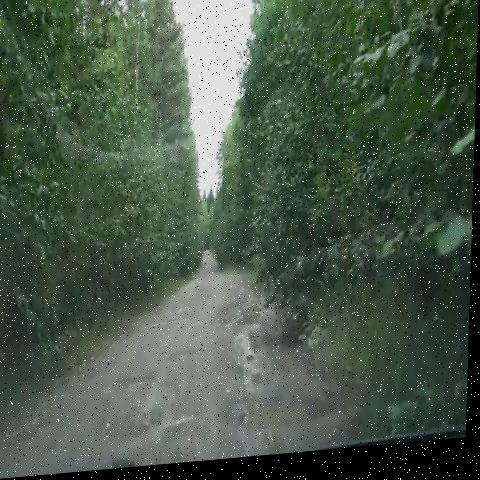pothole: (231, 389, 345, 445), (108, 394, 184, 453), (226, 290, 267, 346), (163, 347, 209, 377), (103, 379, 153, 405), (163, 302, 194, 337)
